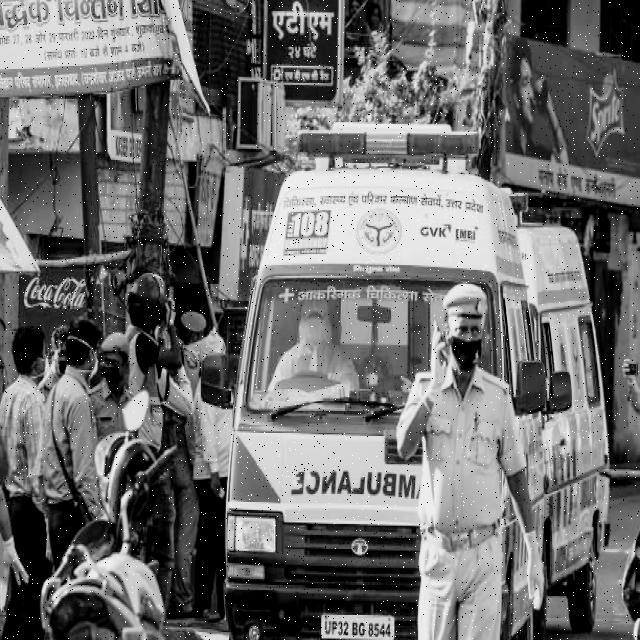Ambulance: (295, 113, 488, 194), (280, 209, 495, 277), (512, 256, 600, 380), (286, 456, 421, 526), (538, 411, 602, 540), (499, 183, 534, 245)
